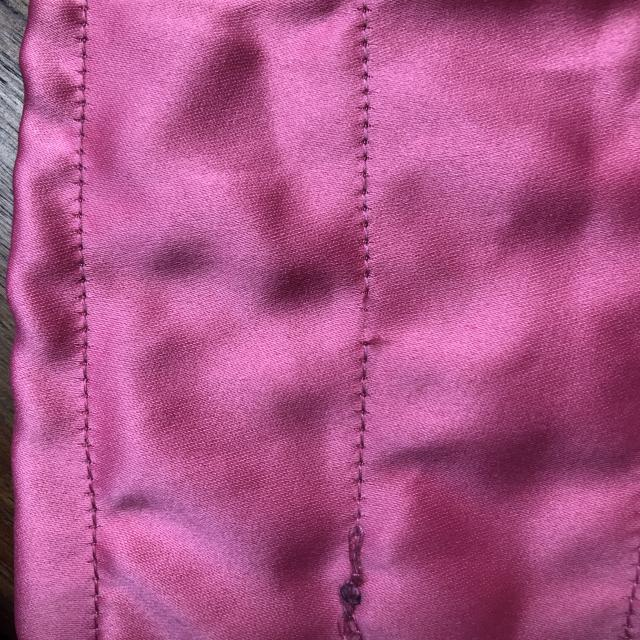broken: (341, 275, 415, 355)
